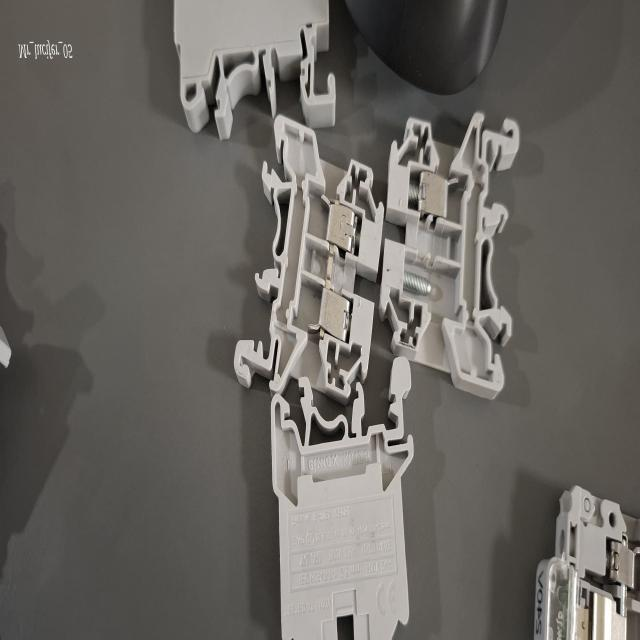Pass: (216, 105, 394, 466)
Reject: (374, 78, 533, 426)
